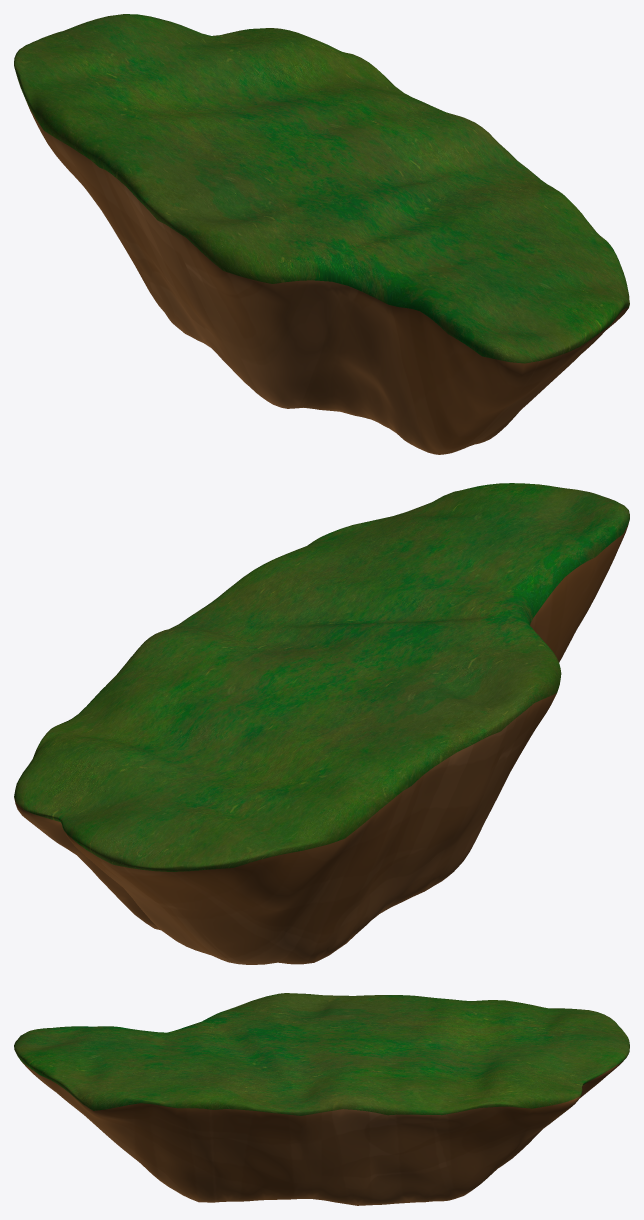
The model's file is ilha2.fbx.
The picture shows the model from 3 angles, top to bottom: view 1: azimuth 30°, elevation 25°; view 2: azimuth 150°, elevation 25°; view 3: azimuth 270°, elevation 25°; orthographic projection. The views are drawn at different scales.
Parts seen in each view (by area): view 1: polySurface3; view 2: polySurface3; view 3: polySurface3.
Boxes of the visible parts, box(x1,y1,x2,y2) form: polySurface3: box(14, 14, 629, 454); polySurface3: box(14, 483, 629, 964); polySurface3: box(14, 993, 629, 1205).
Size of the model in its own units: 14.62 by 8.67 by 34.68.
Materials: 2 (2 with a texture image).
